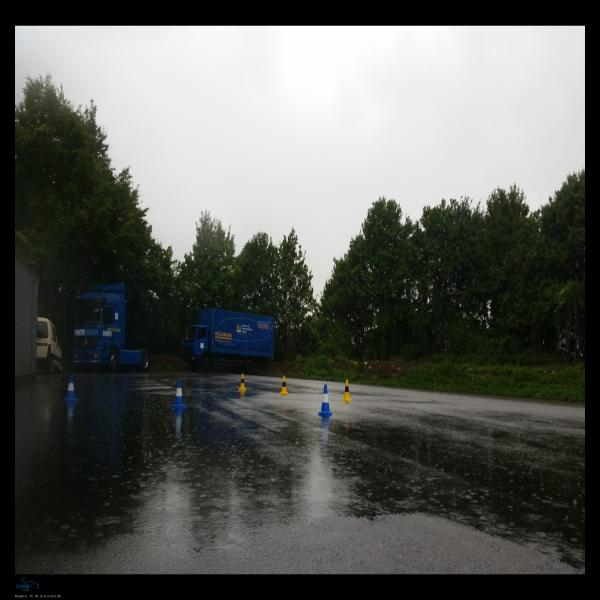blue_cone: (318, 384, 332, 416), (62, 376, 78, 402), (173, 379, 186, 408)
yellow_cone: (342, 380, 352, 402), (280, 376, 288, 395), (238, 374, 246, 391)
